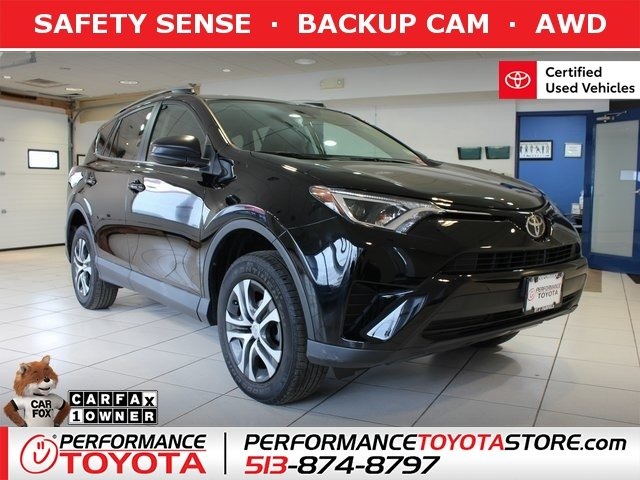Toyota RAV-4: (62, 89, 590, 406)
